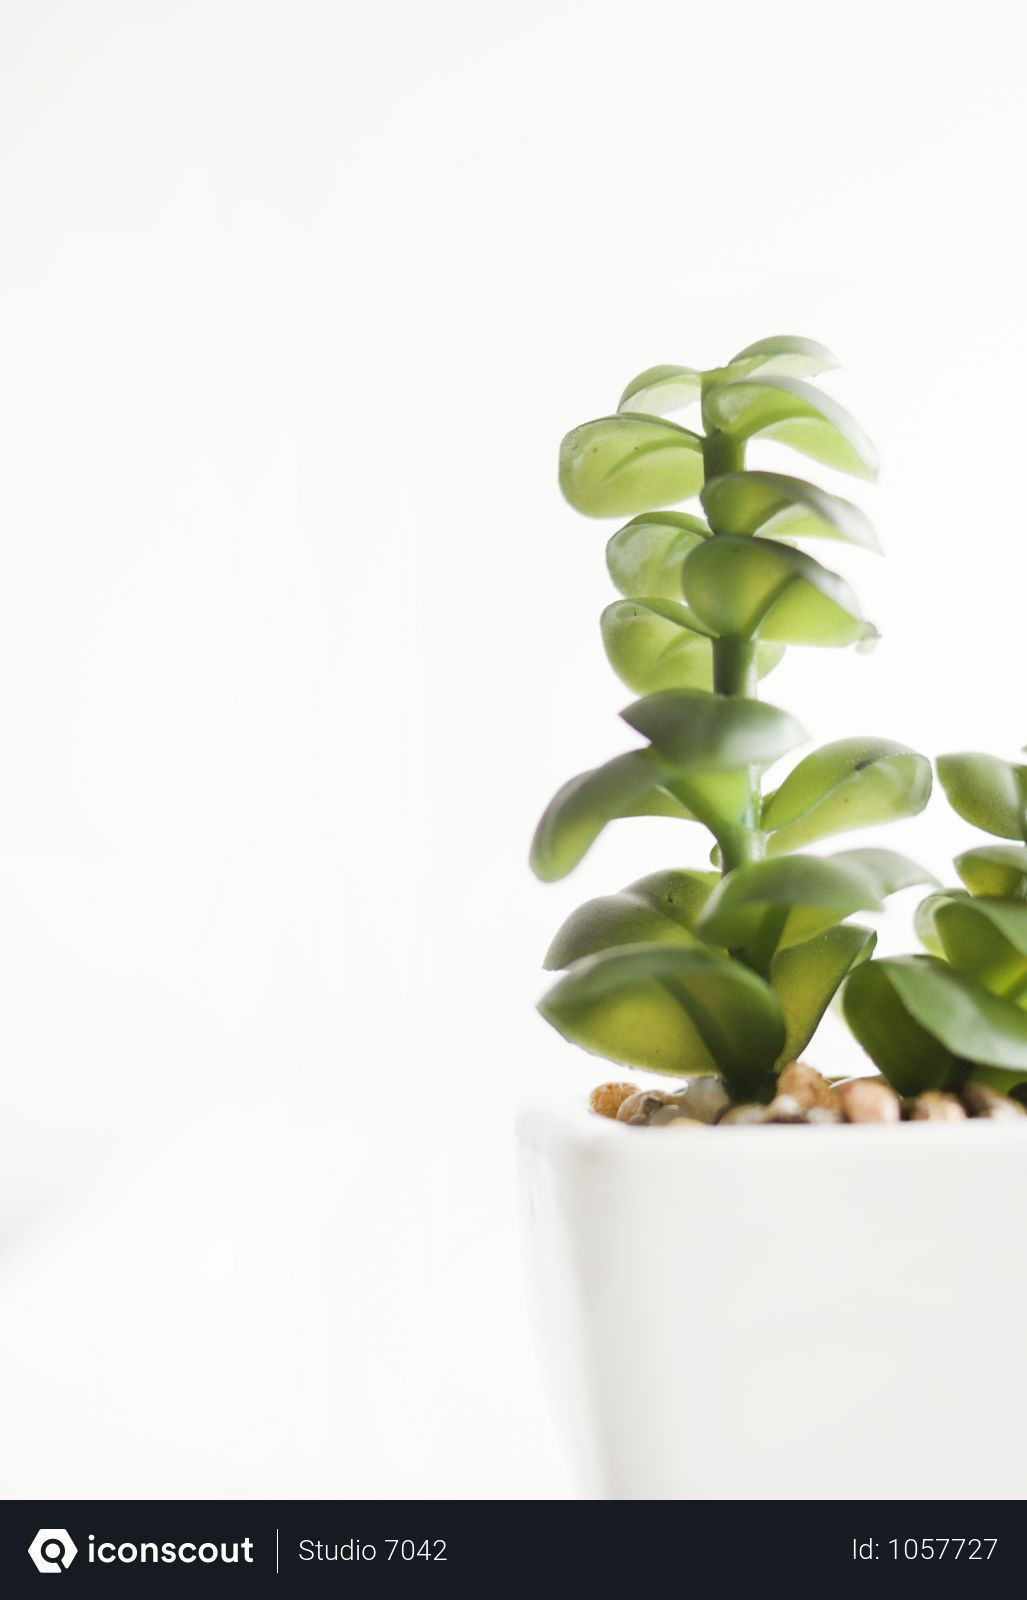tanaman: (451, 351, 1027, 1495)
